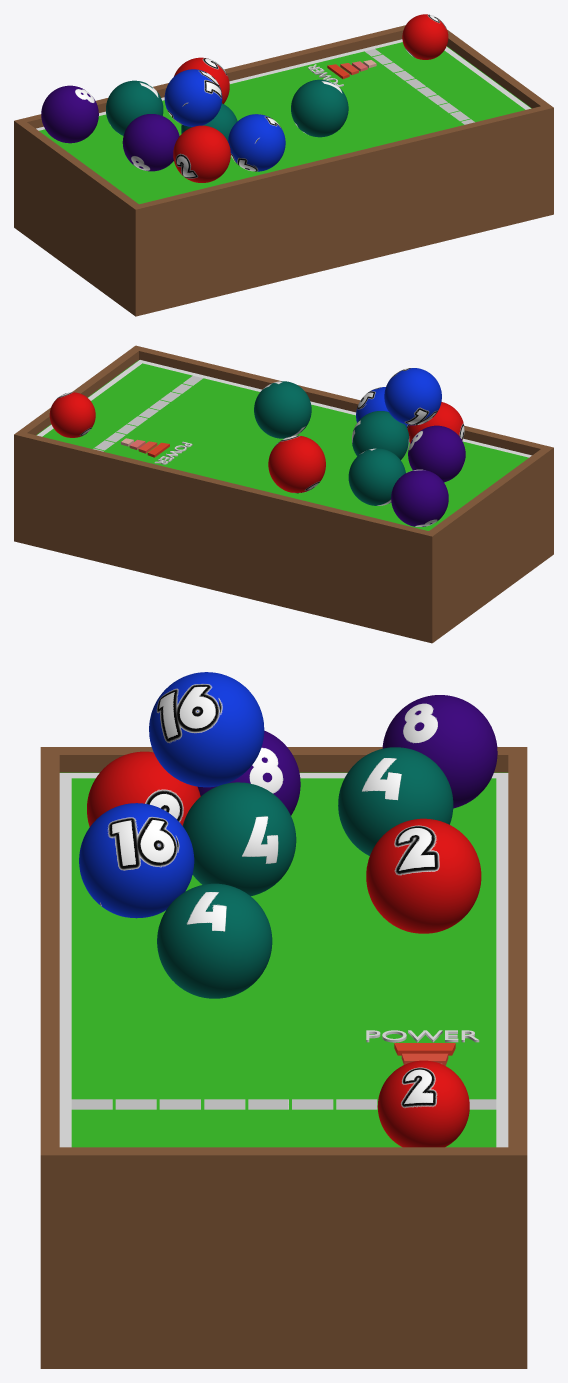
Rendered from 2048pool.fbx.
The picture shows the model from 3 angles, top to bottom: view 1: azimuth 30°, elevation 25°; view 2: azimuth 150°, elevation 25°; view 3: azimuth 270°, elevation 25°; orthographic projection. The views are drawn at different scales.
Parts seen in each view (by area): view 1: Table, Cube.005, Cube.006, Cube.009, Cube.008, Cube.004, Cube.002, Cube.003, Cube.000, Table_Line, Line, Cube.001 (+2 smaller); view 2: Table, Cube.001, Cube.008, Cube.009, Cube.005, Cube.003, Cube.002, Cube.007, Cube.000, Table_Line, Line, Cube.006 (+2 smaller); view 3: Table, Cube.001, Cube.008, Cube.005, Cube.004, Table_Line, Cube.007, Cube.003, Cube.009, Cube.000, Cube.006, Line (+3 smaller).
Part boxes in pixels (left/top/right/bottom): Table: left=14, top=25, right=553, bottom=316; Cube.005: left=291, top=79, right=348, bottom=137; Cube.006: left=173, top=125, right=230, bottom=182; Cube.009: left=41, top=85, right=98, bottom=143; Cube.008: left=164, top=69, right=222, bottom=126; Cube.004: left=228, top=114, right=285, bottom=171; Cube.002: left=122, top=114, right=179, bottom=171; Cube.003: left=106, top=80, right=163, bottom=135; Cube.000: left=402, top=14, right=448, bottom=59; Table_Line: left=36, top=39, right=530, bottom=130; Line: left=365, top=49, right=474, bottom=124; Cube.001: left=174, top=57, right=229, bottom=103; Table: left=14, top=345, right=553, bottom=643; Cube.001: left=268, top=435, right=325, bottom=493; Cube.008: left=384, top=368, right=441, bottom=425; Cube.009: left=391, top=469, right=448, bottom=526; Cube.005: left=254, top=381, right=311, bottom=438; Cube.003: left=348, top=448, right=405, bottom=505; Cube.002: left=408, top=425, right=465, bottom=482; Cube.007: left=352, top=411, right=409, bottom=459; Cube.000: left=49, top=392, right=95, bottom=437; Table_Line: left=37, top=360, right=531, bottom=457; Line: left=93, top=375, right=203, bottom=451; Cube.006: left=407, top=402, right=464, bottom=443; Table: left=40, top=747, right=527, bottom=1368; Cube.001: left=366, top=818, right=481, bottom=933; Cube.008: left=149, top=672, right=264, bottom=787; Cube.005: left=157, top=883, right=272, bottom=998; Cube.004: left=79, top=803, right=194, bottom=918; Table_Line: left=59, top=773, right=508, bottom=1147; Cube.007: left=183, top=782, right=296, bottom=895; Cube.003: left=338, top=747, right=453, bottom=855; Cube.009: left=382, top=695, right=497, bottom=808; Cube.000: left=377, top=1060, right=469, bottom=1147; Cube.006: left=87, top=751, right=200, bottom=826; Line: left=71, top=1099, right=496, bottom=1109.
Size of the model in its own units: 360 by 156 by 181.
